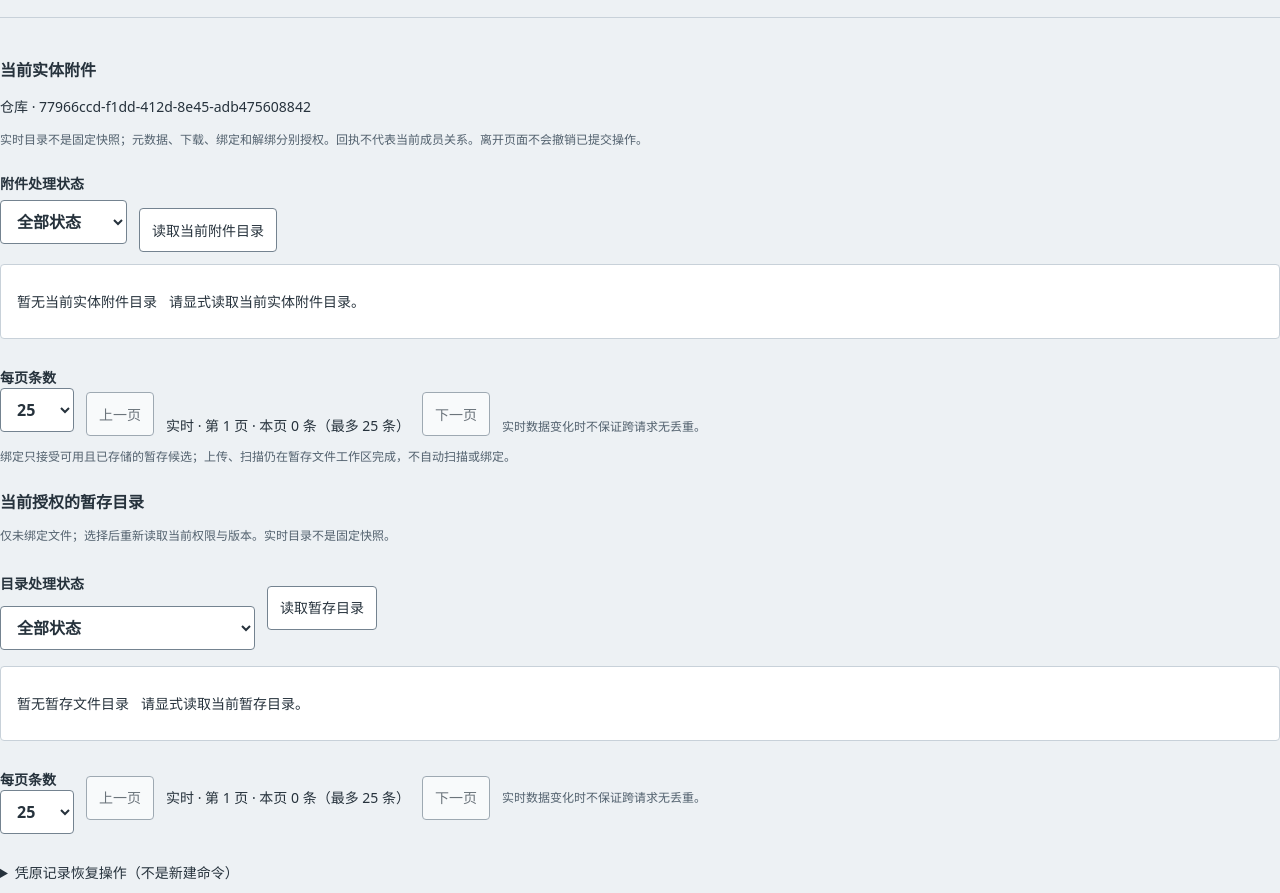
Test: confirms detach only on the second action, then treats the receipt as original fact rather than a list
This screenshot has width=1280, height=893.
Click the button with test id "attachments-read" at (208, 230), box [139,208,277,252]
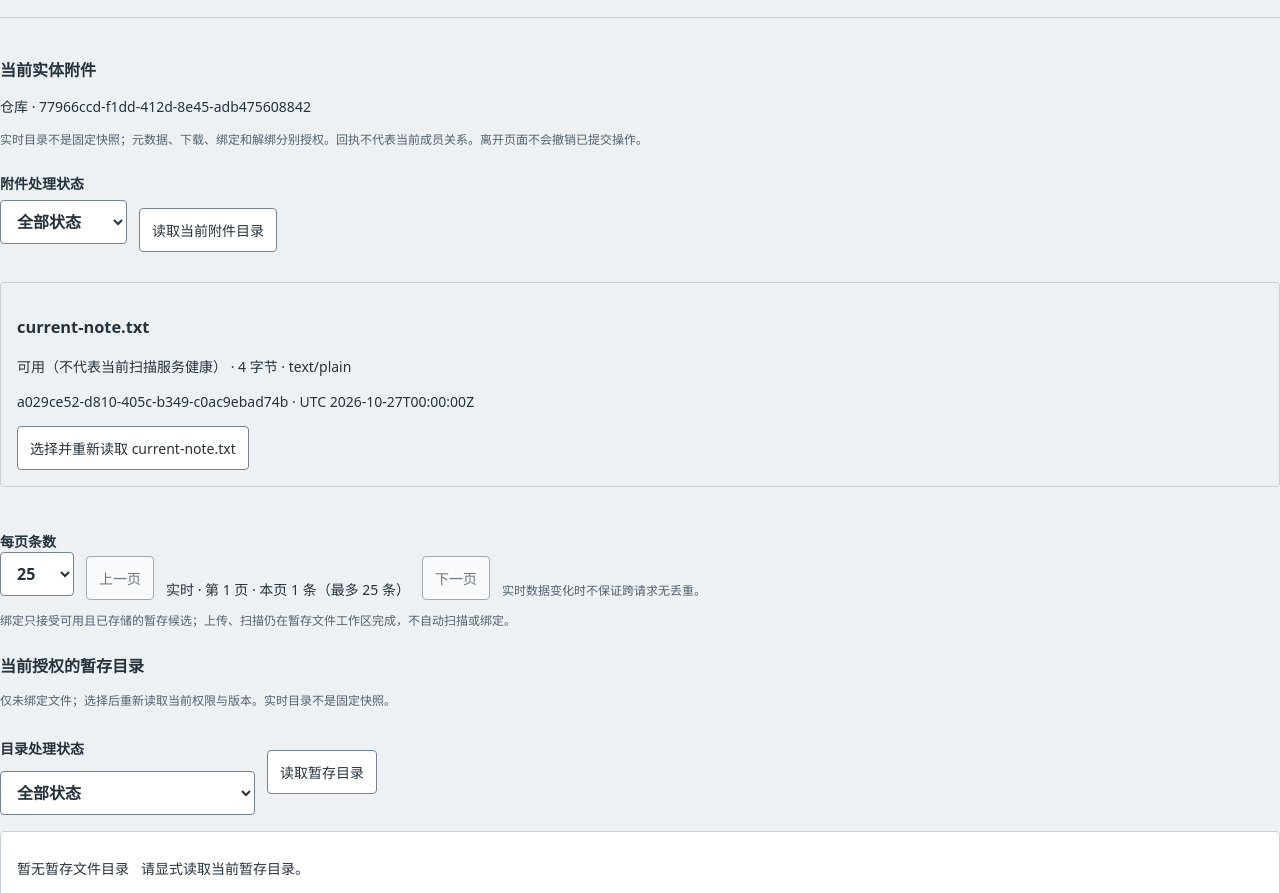
Click the button with test id "attachment-select" at (133, 448), box [17,426,249,470]
(page scrolled)
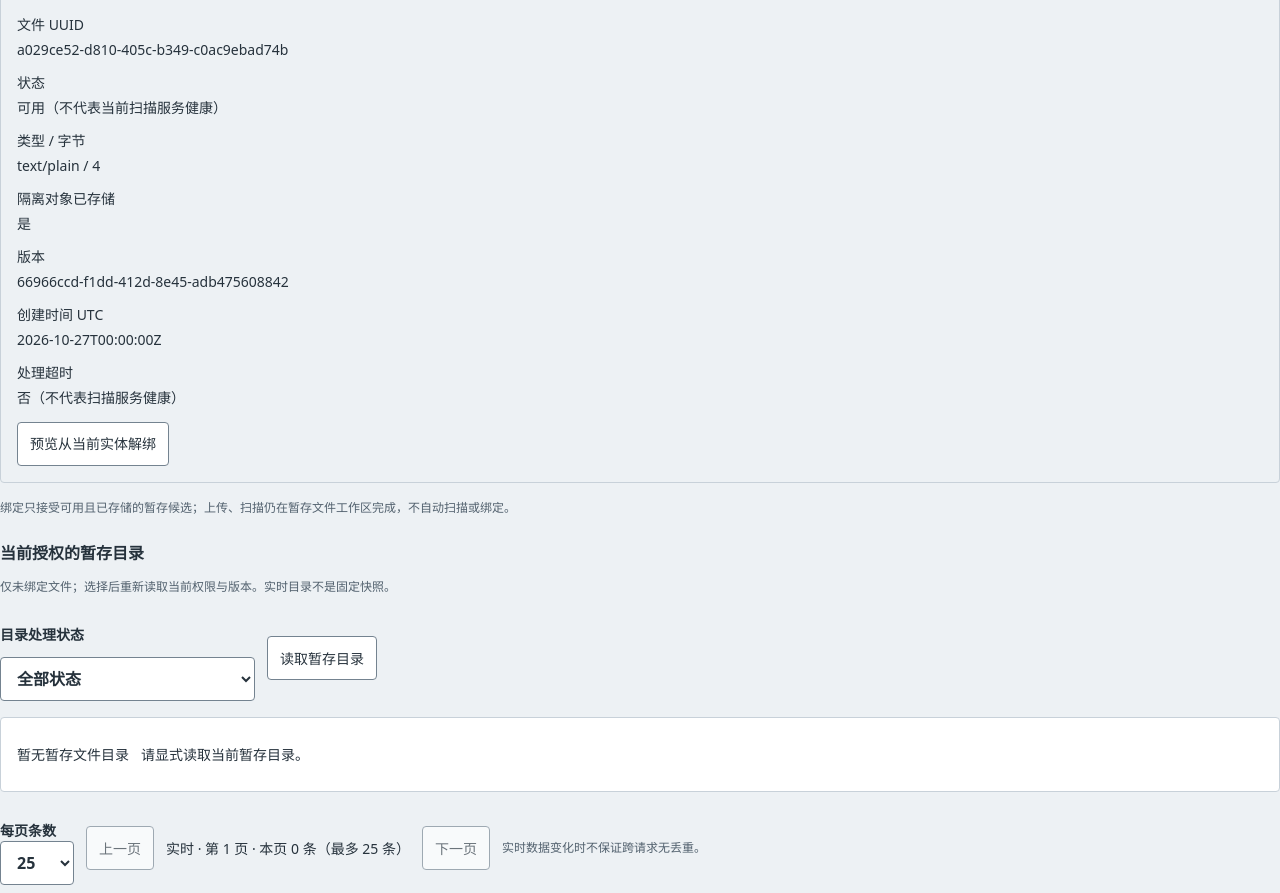
Click the button with test id "attachment-prepare" at (93, 444), box [17,422,169,466]
(page scrolled)
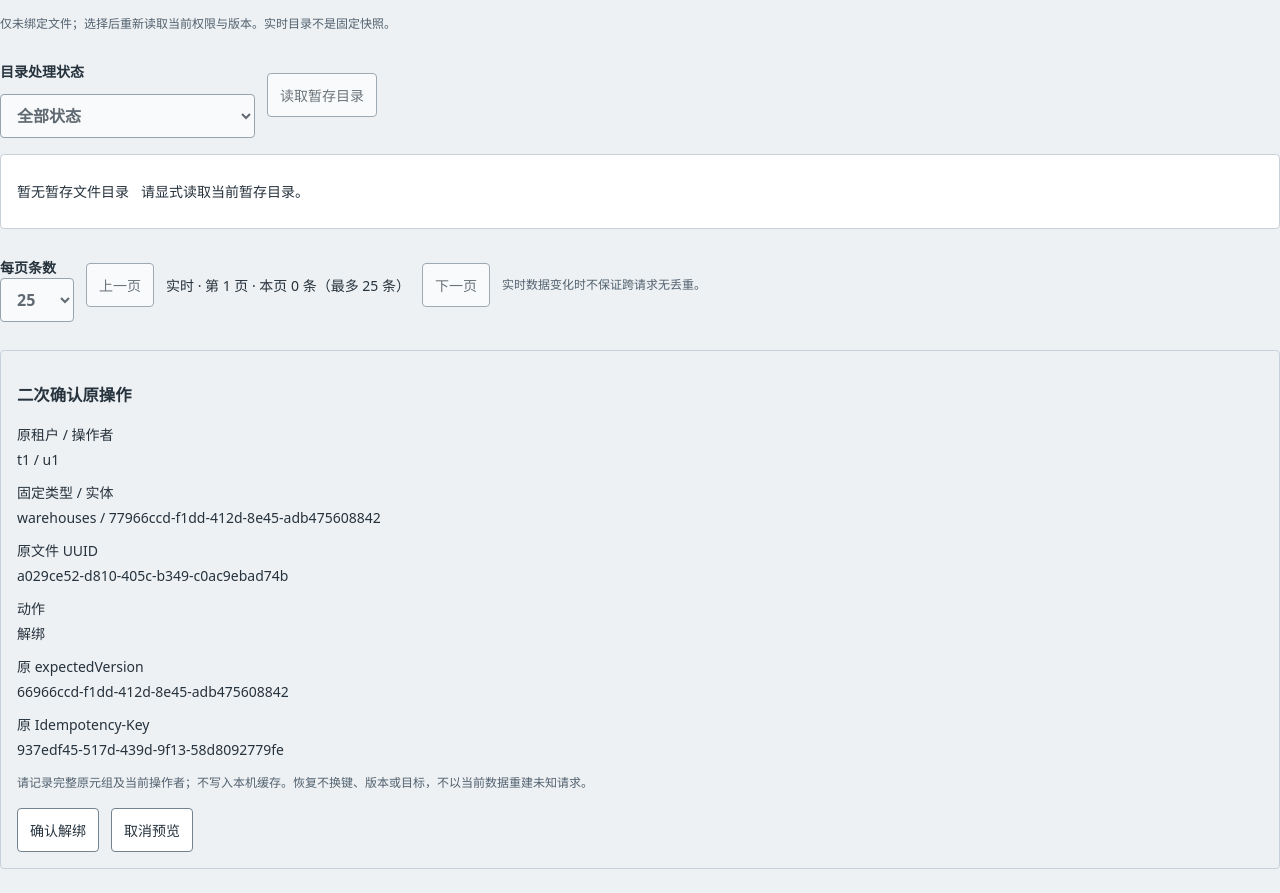
Click the button with test id "attachment-confirm" at (58, 830), box [17,808,99,852]
(page scrolled)
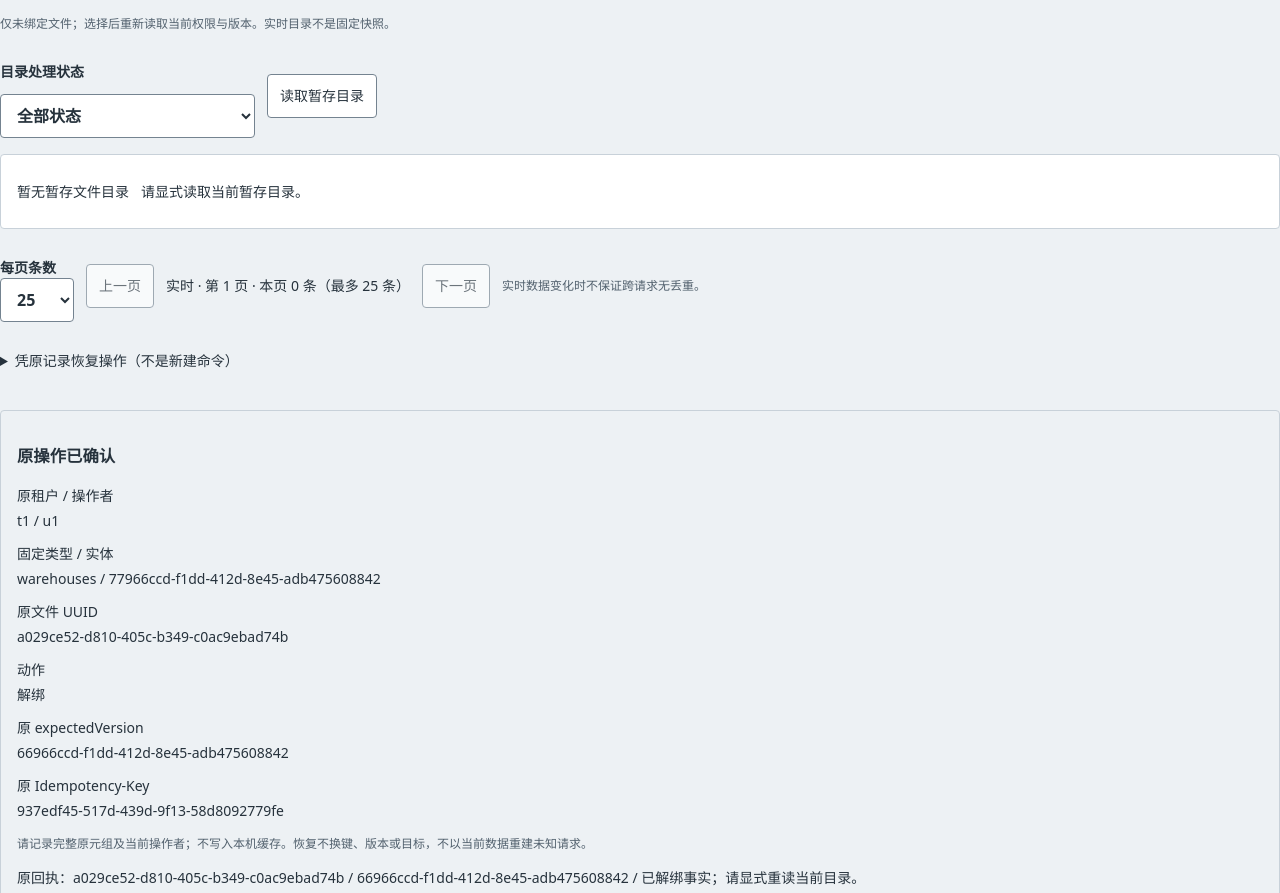
Result: the message with test id "attachment-receipt" shows "原回执" at [17,868,865,887]
